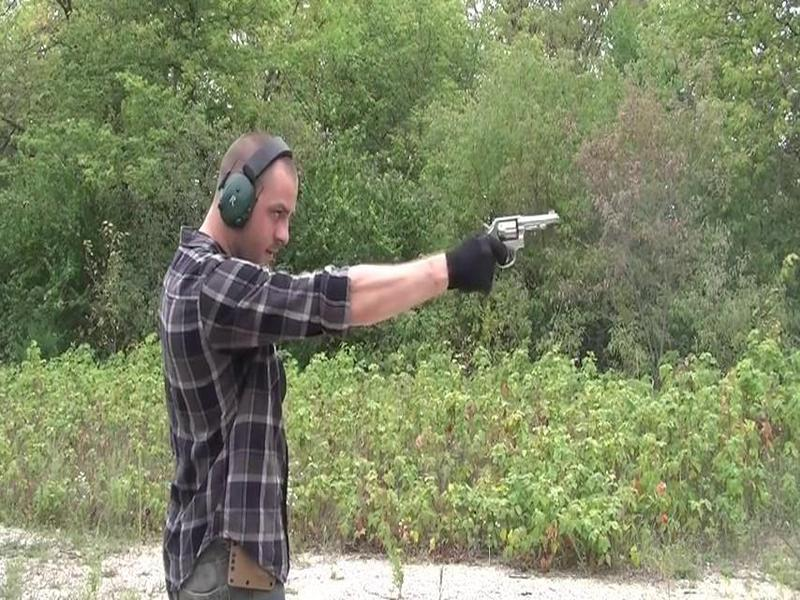Revolver: (472, 201, 564, 269)
